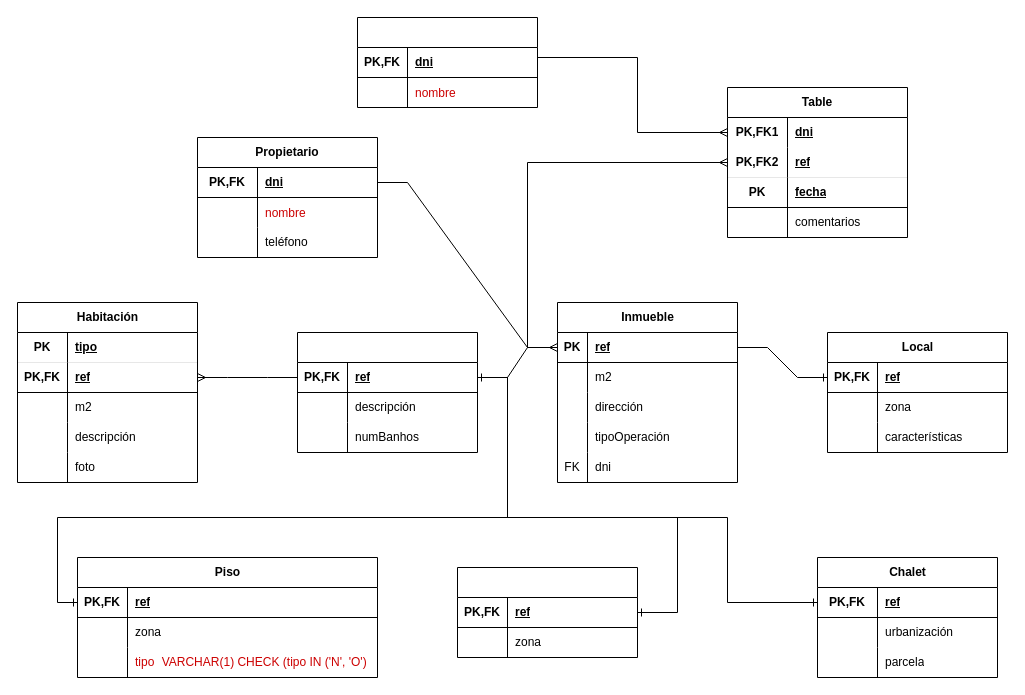
The diagram is 1025 pixels wide and 695 high, and some of its shapes have lost their labels. The shapes that lost their labels are listed below. From the top down, each one's box as (x1, y1, x2, y2) in pixels, then its label:
(356, 16, 538, 108): Cliente
(296, 332, 478, 452): Vivienda
(456, 566, 638, 658): Casa
